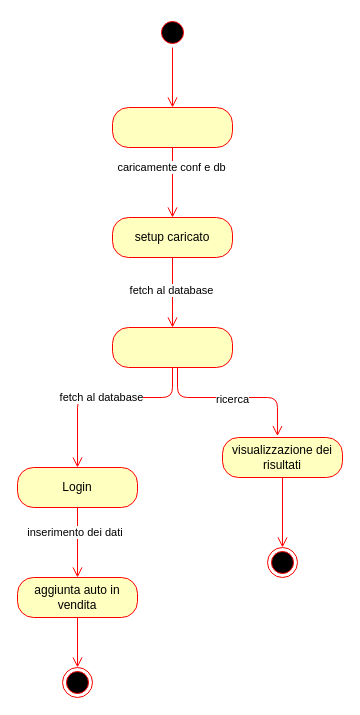
This 360x715 diagram has some shape labels left out. The shapes that lost their labels are listed below. From the top down, each one's centre as x and y in pixels, then its label:
At pixel 172 127: "DOM Loaded".
At pixel 172 347: "Home page caricata (render)".
